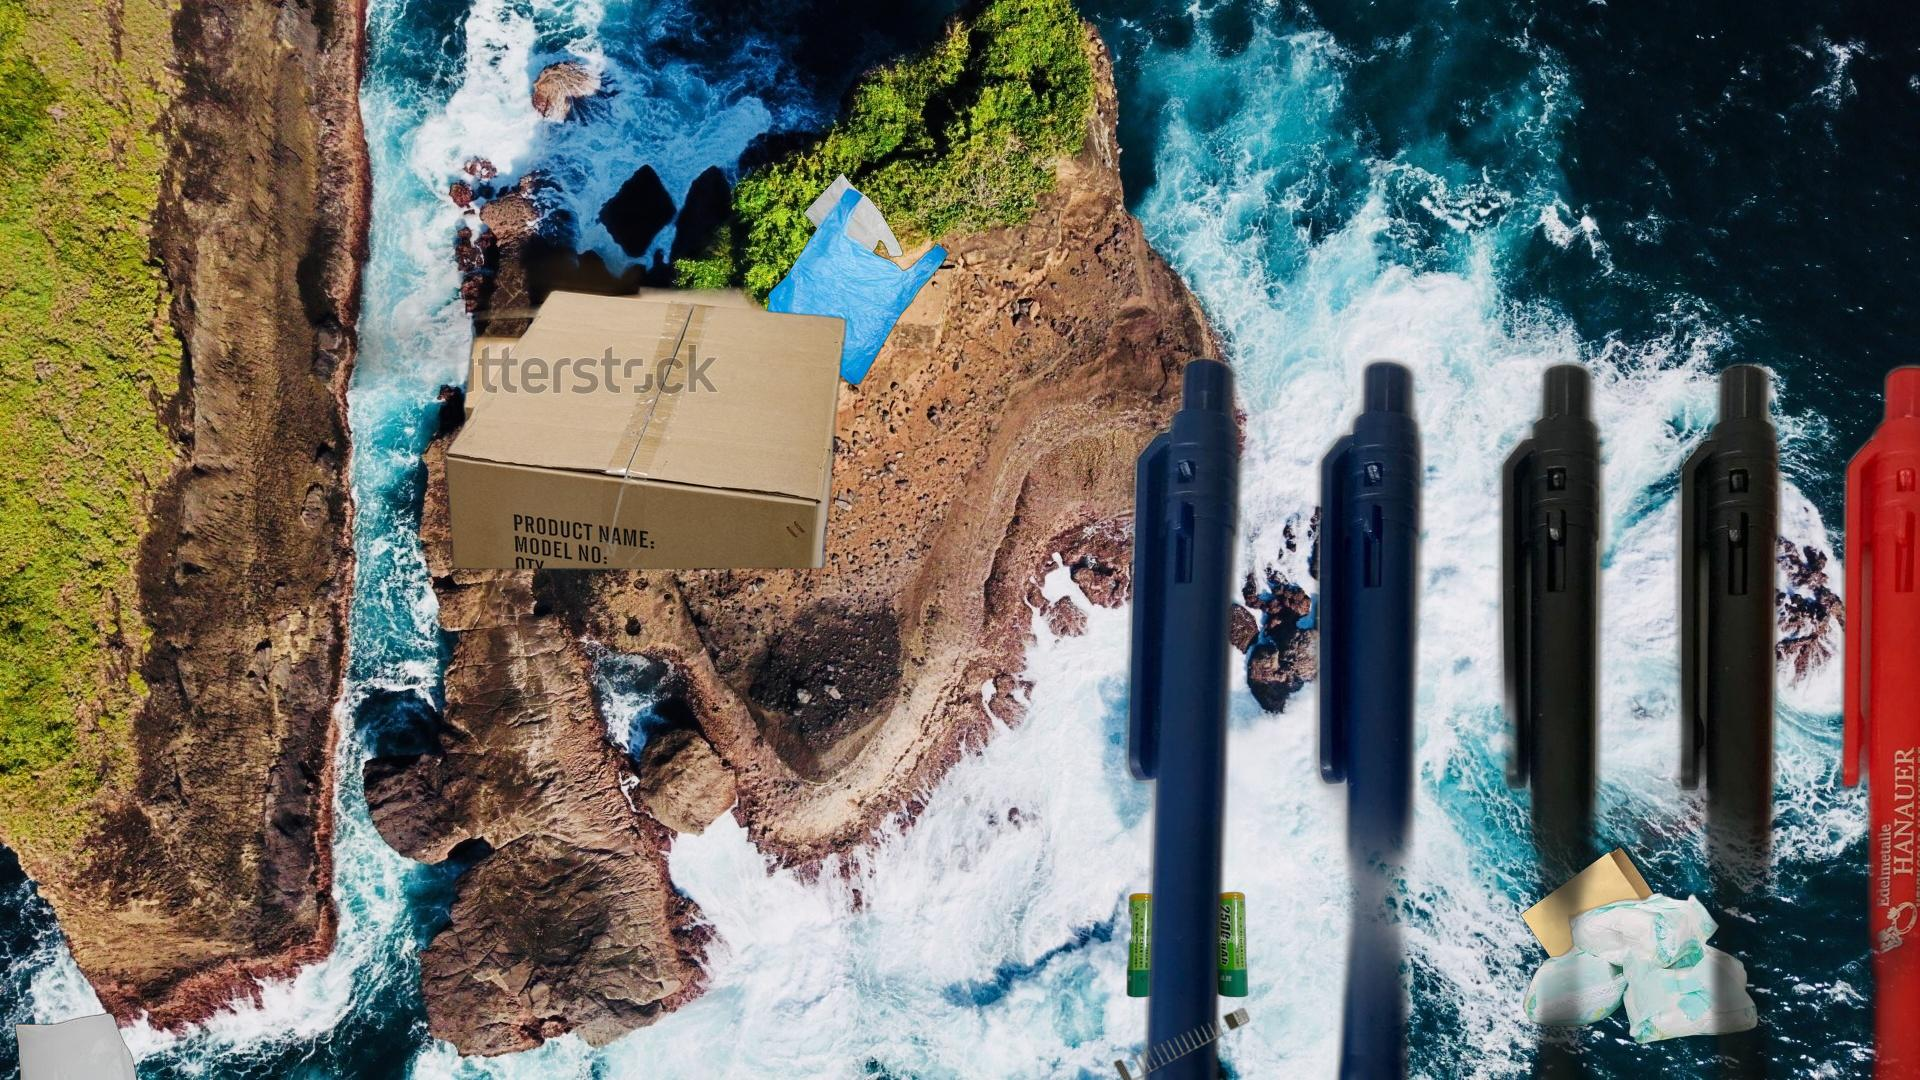battery: (1124, 889, 1251, 1001)
paper: (1046, 791, 1254, 1080)
paper-bag: (1516, 847, 1663, 978)
penholder: (1117, 328, 1920, 1080)
plastic-bag: (762, 171, 949, 388), (13, 1010, 162, 1080)
trash: (1520, 889, 1760, 1047)
trashbox-cardboard: (251, 171, 851, 572)
